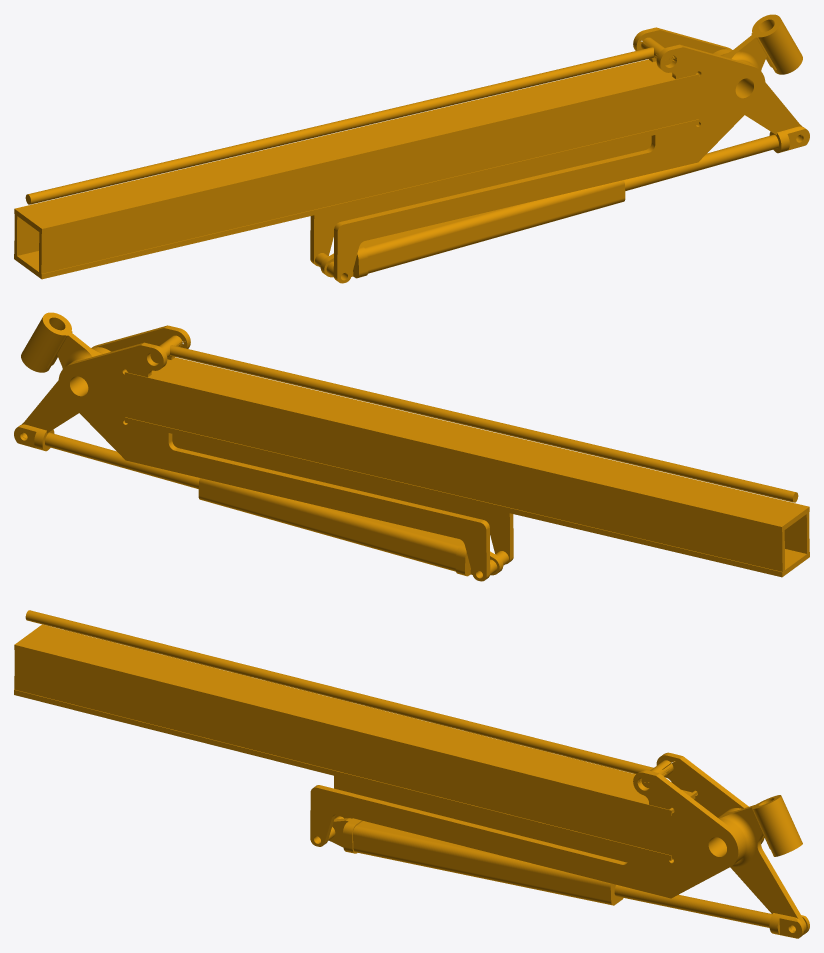
The model's file is Translation.dae.
3 renders of one model, top to bottom at view 1: azimuth 30°, elevation 25°; view 2: azimuth 150°, elevation 25°; view 3: azimuth 330°, elevation 25°, orthographic.
Visible parts, largest first — view 1: node0; view 2: node0; view 3: node0.
Part boxes in pixels (left/top/right/bottom): node0: left=14, top=14, right=809, bottom=283; node0: left=14, top=312, right=809, bottom=581; node0: left=14, top=610, right=809, bottom=938.
Bounding box in the file's own units: 1.26 × 0.078 × 0.2488.
